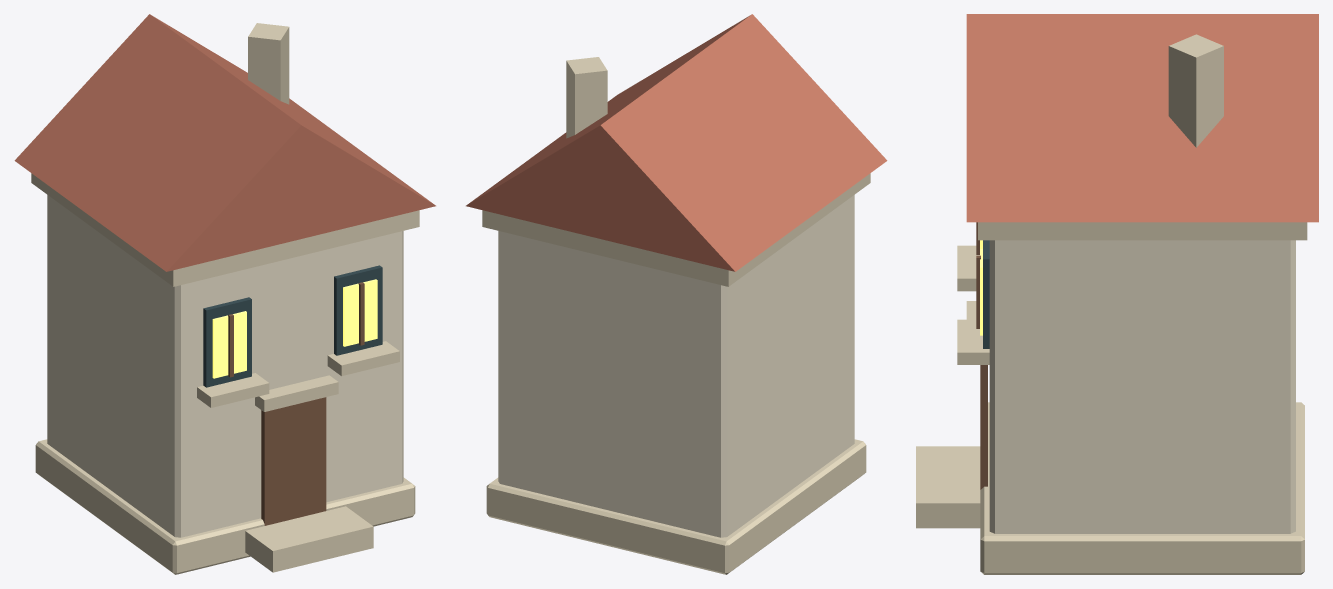
File: house.glb
3 renders of one model, left to right at view 1: azimuth 30°, elevation 25°; view 2: azimuth 150°, elevation 25°; view 3: azimuth 270°, elevation 25°, orthographic. The views are drawn at different scales.
Visible parts, largest first — view 1: house; view 2: house; view 3: house.
Part boxes in pixels (box(x1,y1,x2,y2)): house: box(14, 14, 435, 574); house: box(466, 14, 887, 574); house: box(916, 14, 1318, 574).
Size of the model in its own units: 2.36 by 3.6 by 2.63.
